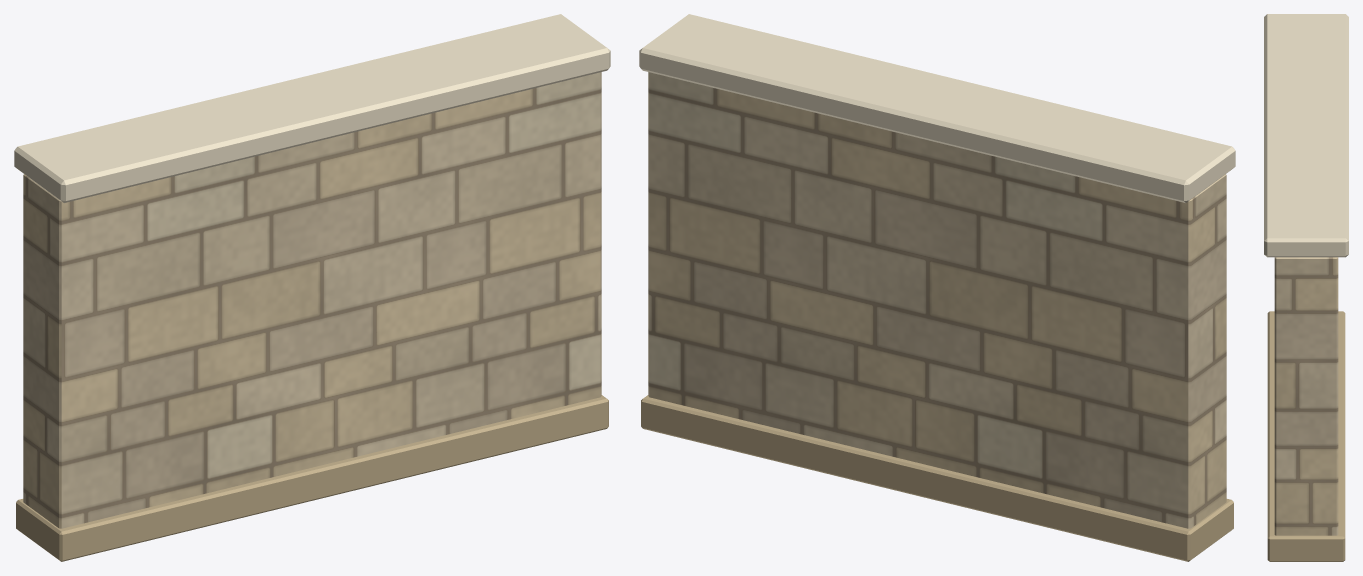
3 views of the same model, side by side, from view 1: azimuth 30°, elevation 25°; view 2: azimuth 150°, elevation 25°; view 3: azimuth 270°, elevation 25° (orthographic). The views are drawn at different scales.
Parts seen in each view (by area): view 1: ashlar, limestone_pale, limestone_shade; view 2: ashlar, limestone_pale, limestone_shade; view 3: limestone_pale, ashlar, limestone_shade.
Part boxes in pixels (x1,y1,x2,y2): ashlar: (23, 72, 601, 528); limestone_pale: (14, 14, 610, 202); limestone_shade: (16, 395, 608, 561); ashlar: (648, 72, 1226, 528); limestone_pale: (639, 14, 1235, 202); limestone_shade: (641, 395, 1233, 561); limestone_pale: (1264, 14, 1348, 257); ashlar: (1274, 257, 1338, 535); limestone_shade: (1267, 311, 1345, 561).
Bounding box in the file's own units: 3.04 × 2.02 × 0.48.
3 materials, 1 textured.
